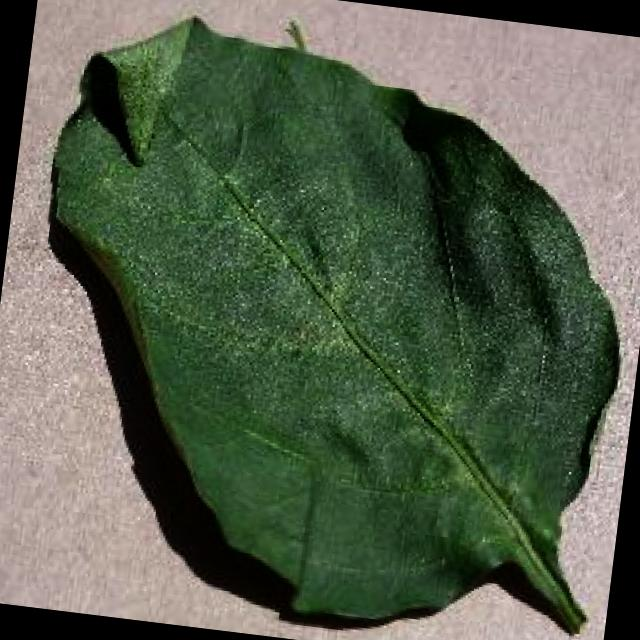Leaf: (97, 116, 598, 572)
